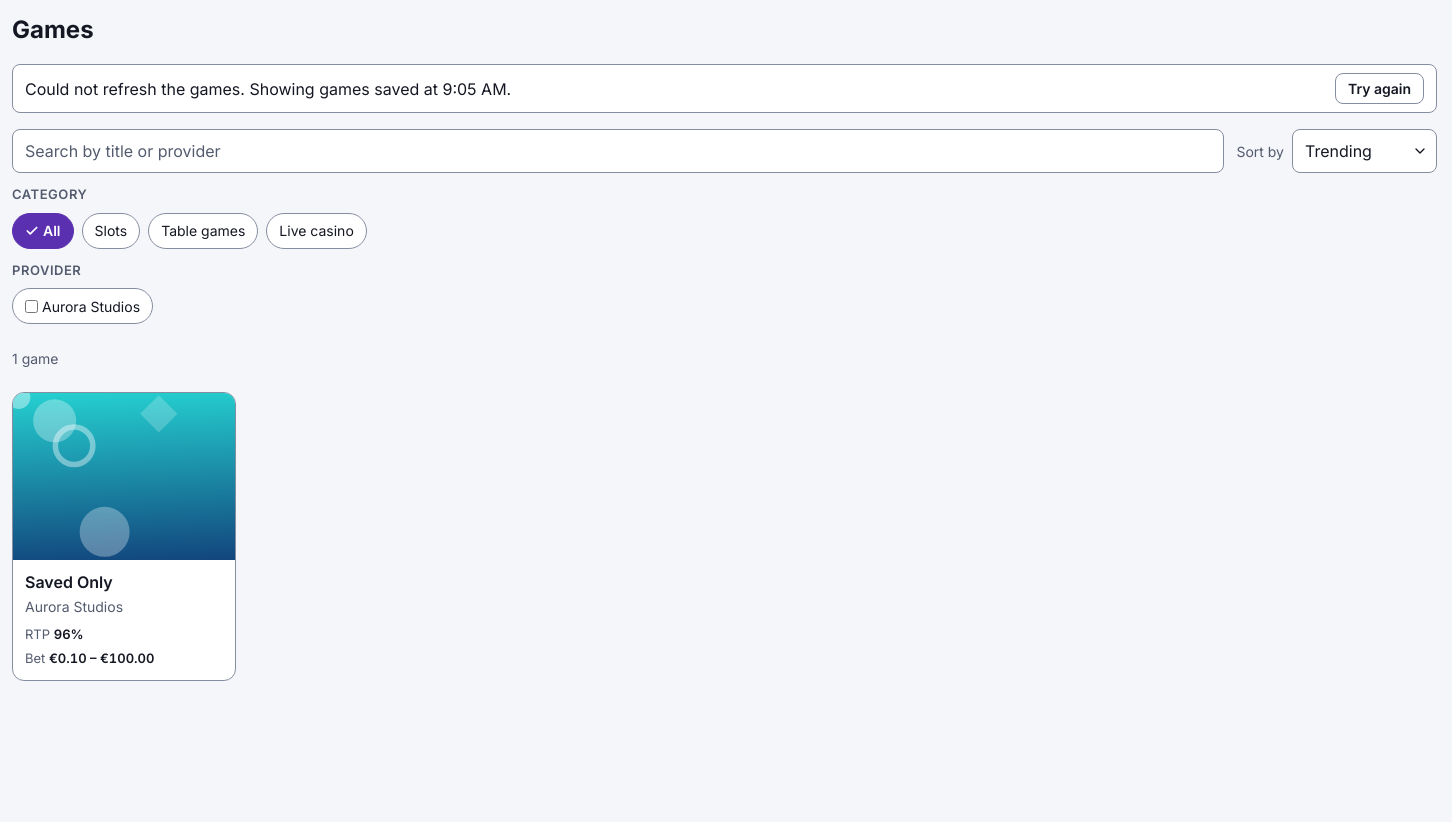
Test: network banner (H2) › banner Retry online: refreshes in place (saved games stay meanwhile)
Click the button "Try again" at (1379, 88), box [1335,73,1424,104]
Wait 1000 ms
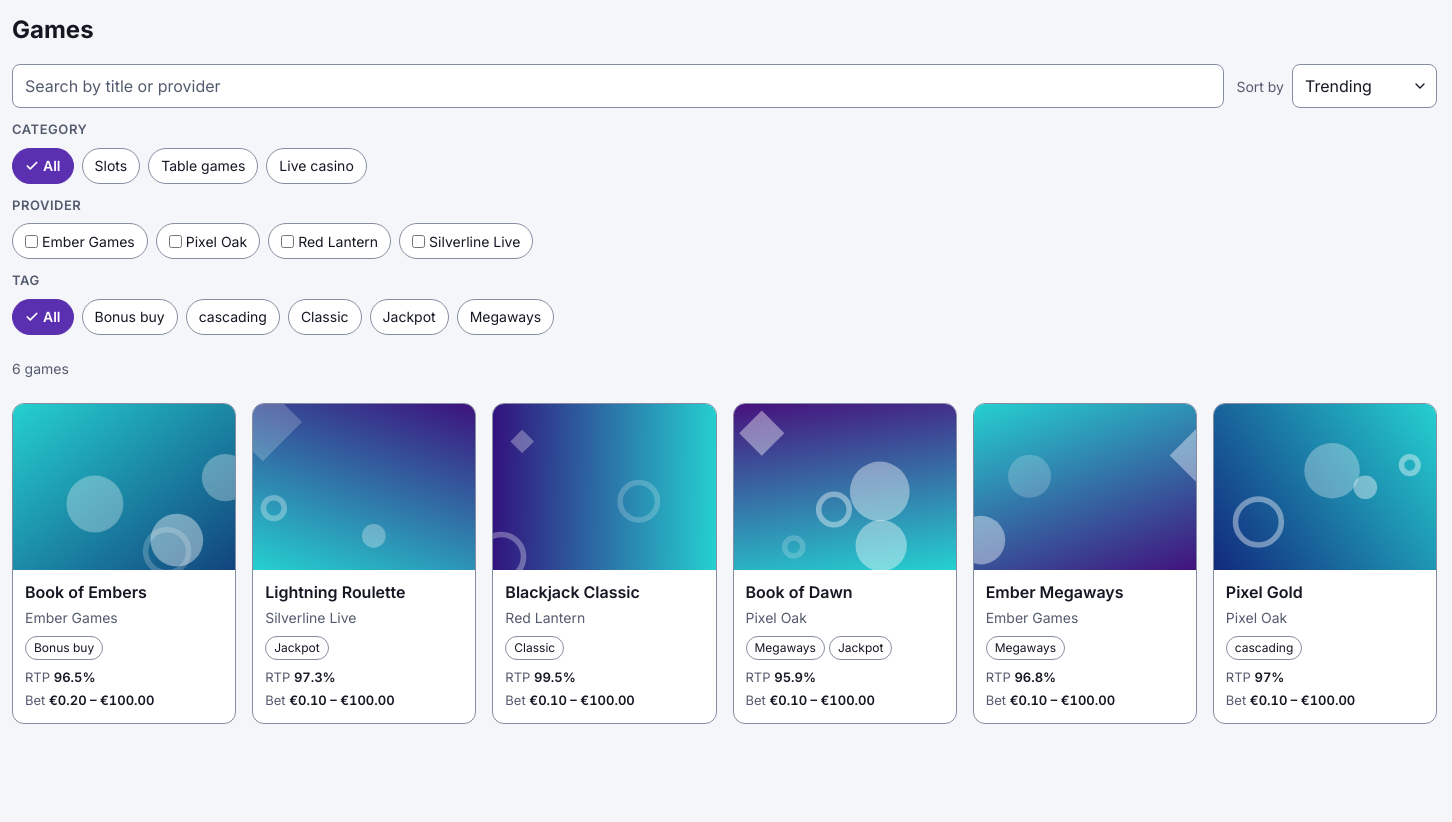
Check: the number of links is 6, box [12,402,236,724]; [252,402,476,724]; [492,402,716,724]; [732,402,957,724]; [973,402,1197,724]; [1213,402,1437,724]
